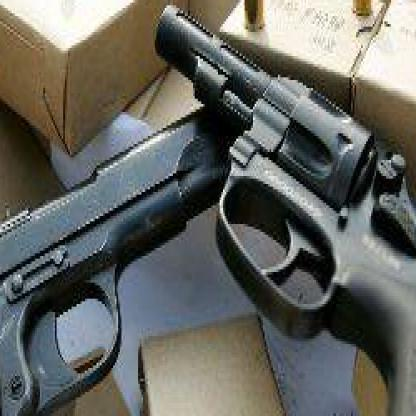gun: (149, 0, 415, 414), (0, 86, 248, 414)
